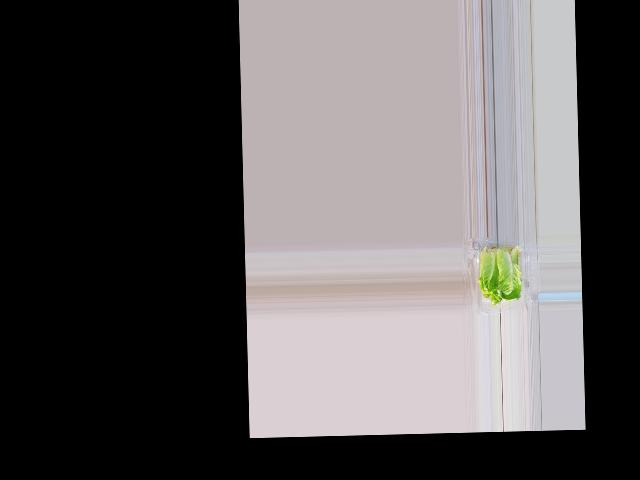lettuce: (478, 248, 522, 306)
